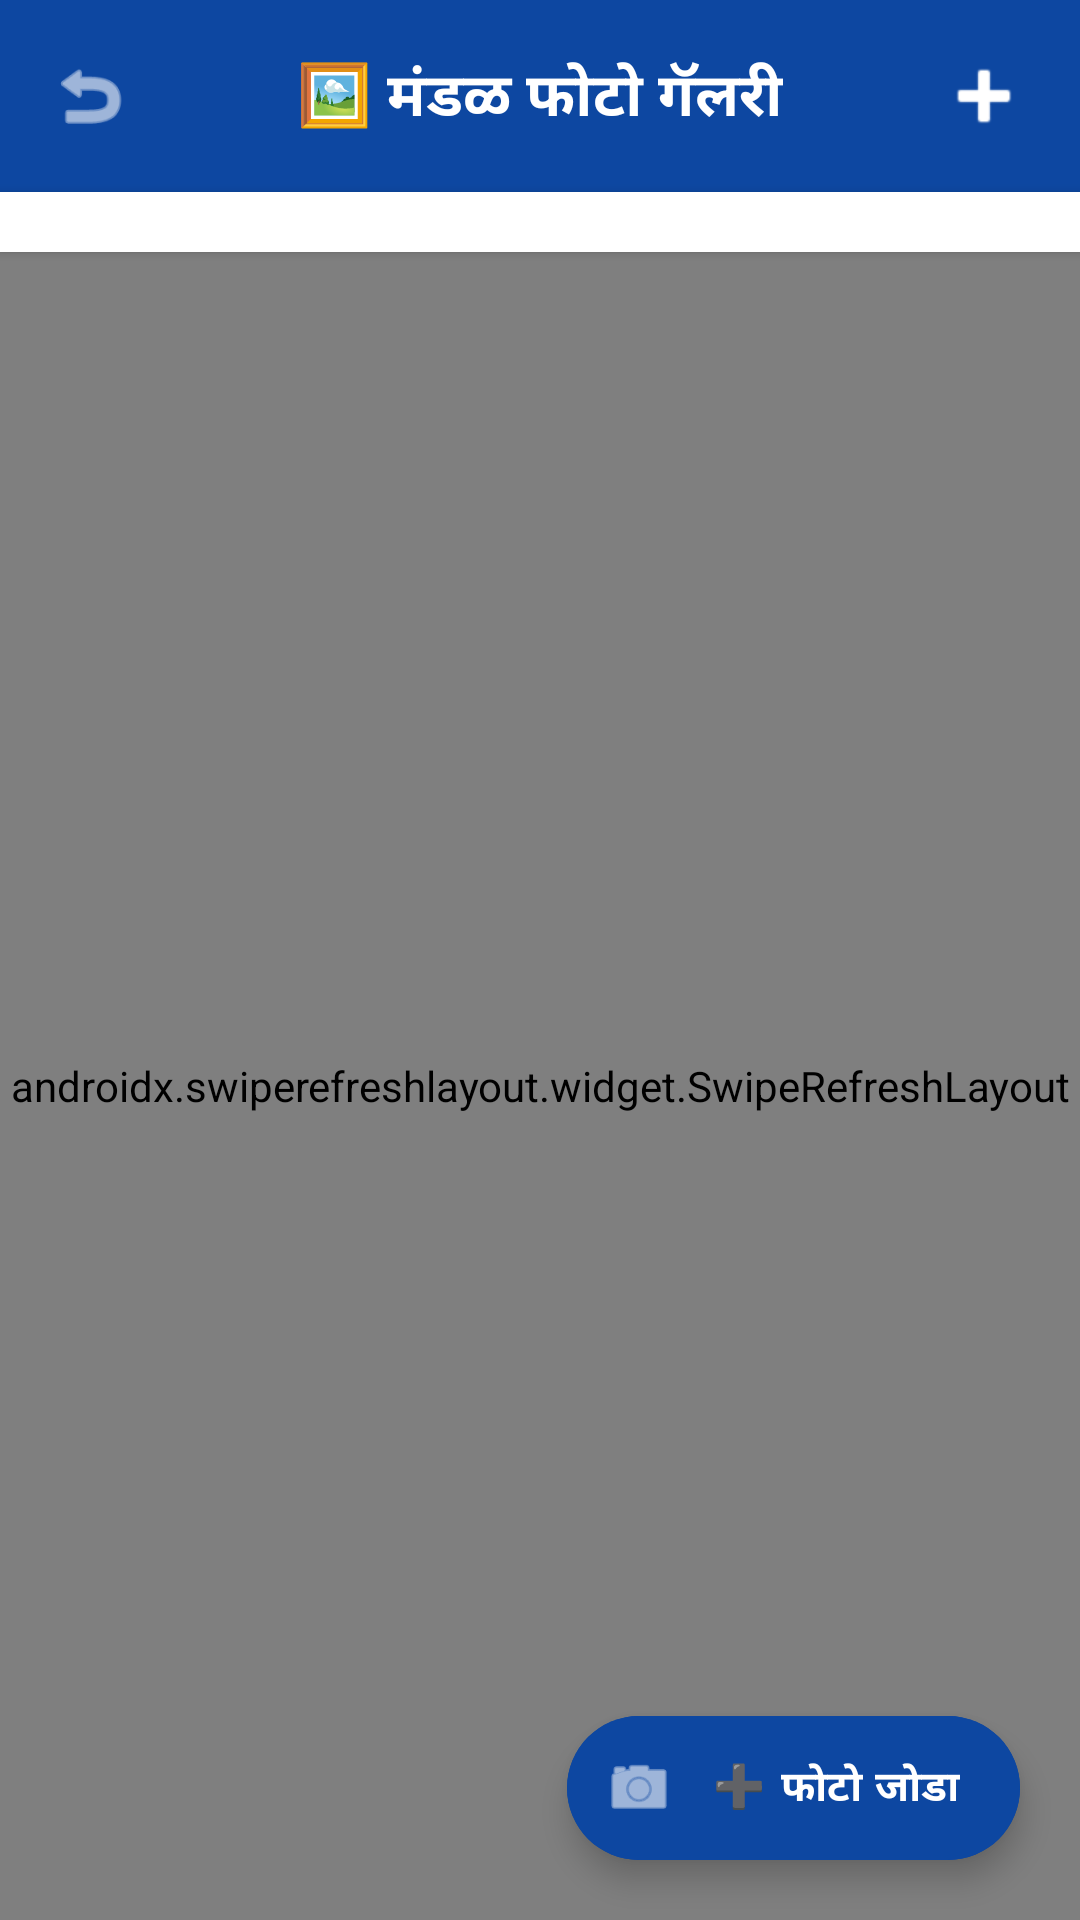

Icons on this 1080*1920 Android screen, each with its box as [x1, y1, x2, y2]:
add: [957, 69, 1011, 123]
revert: [61, 69, 122, 124]
